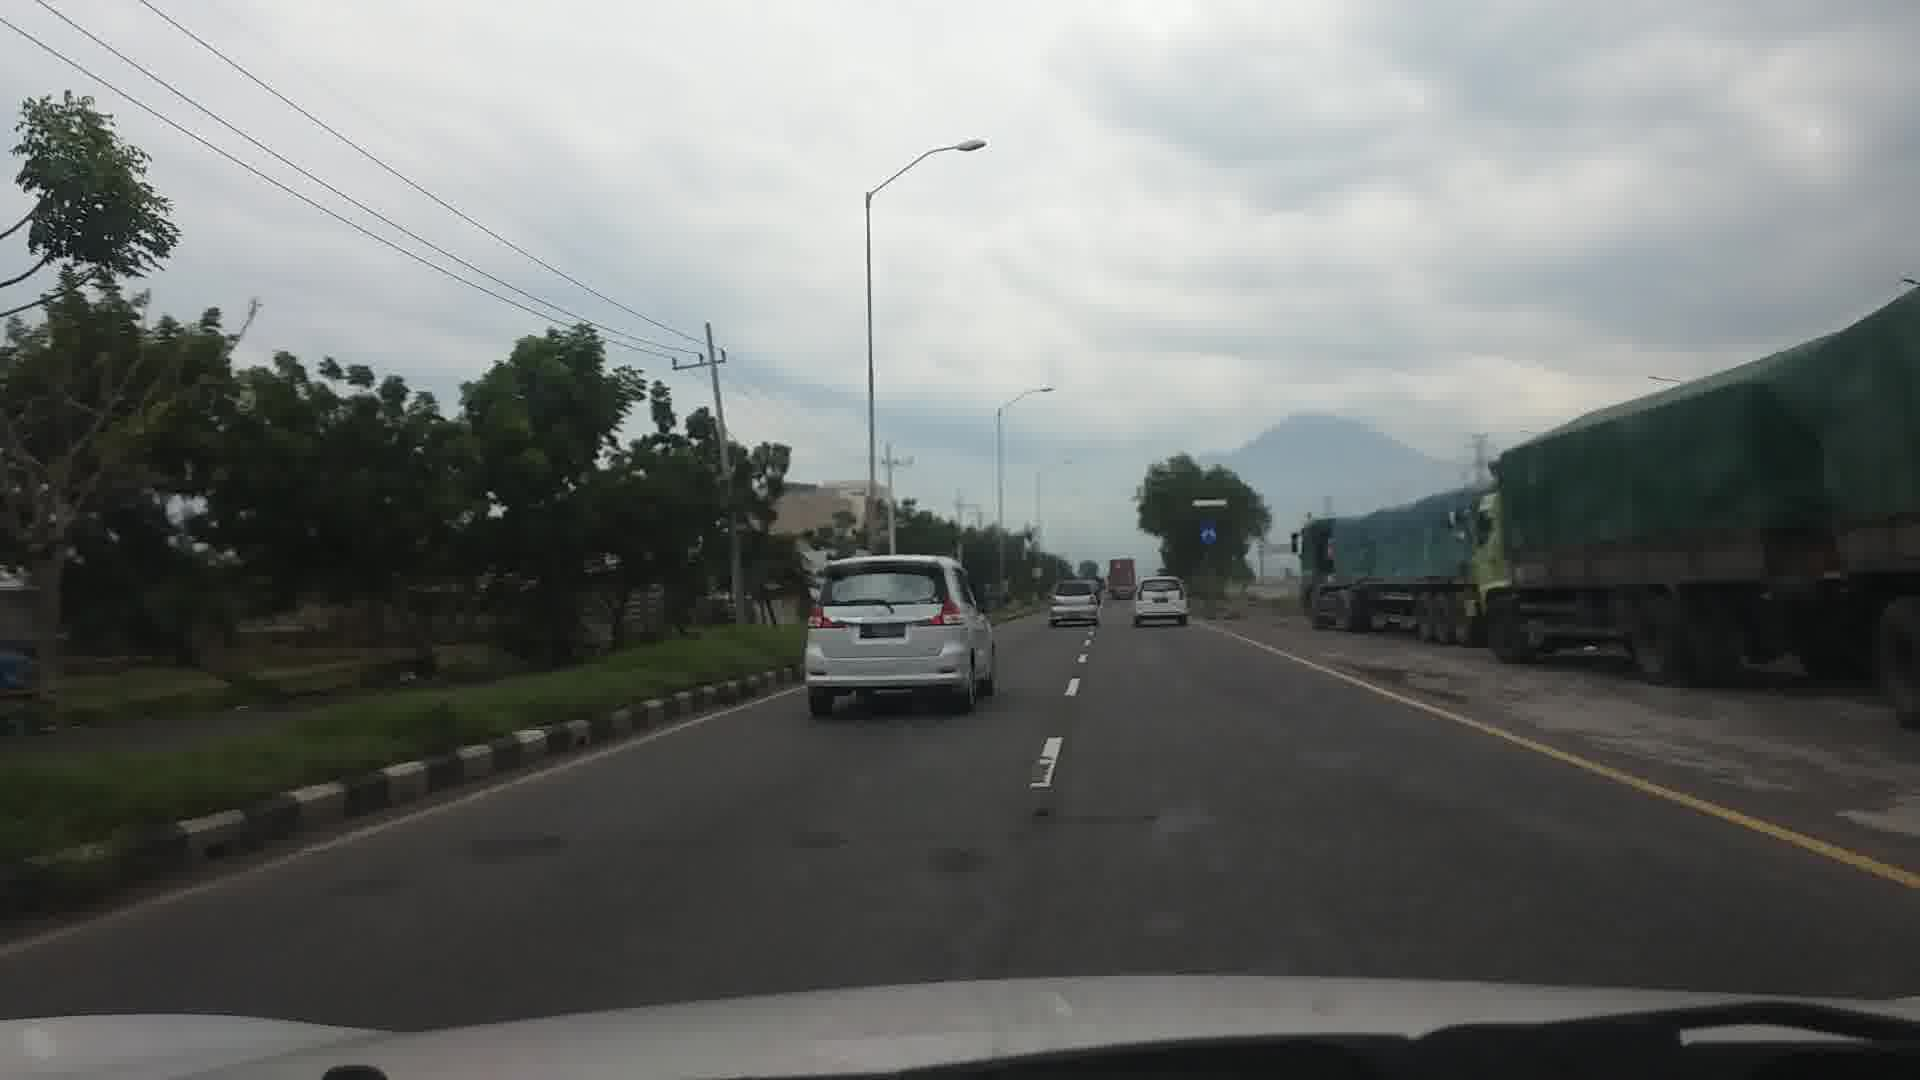plate_positive: (858, 622, 906, 640)
